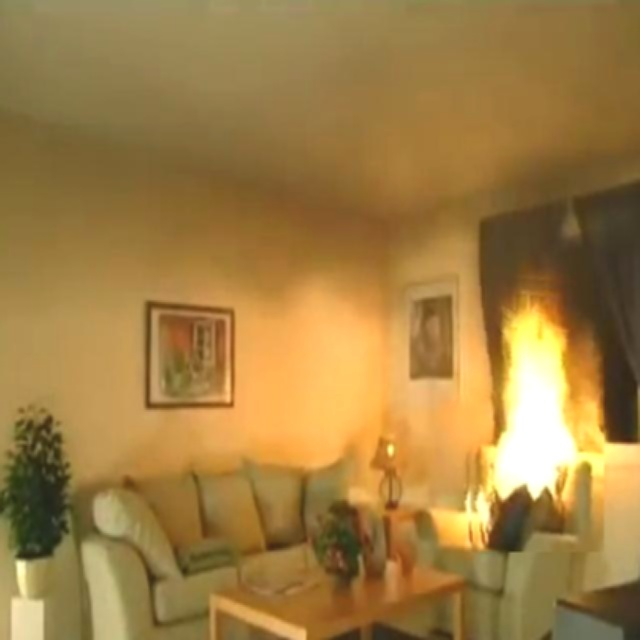fire: (493, 299, 589, 507)
